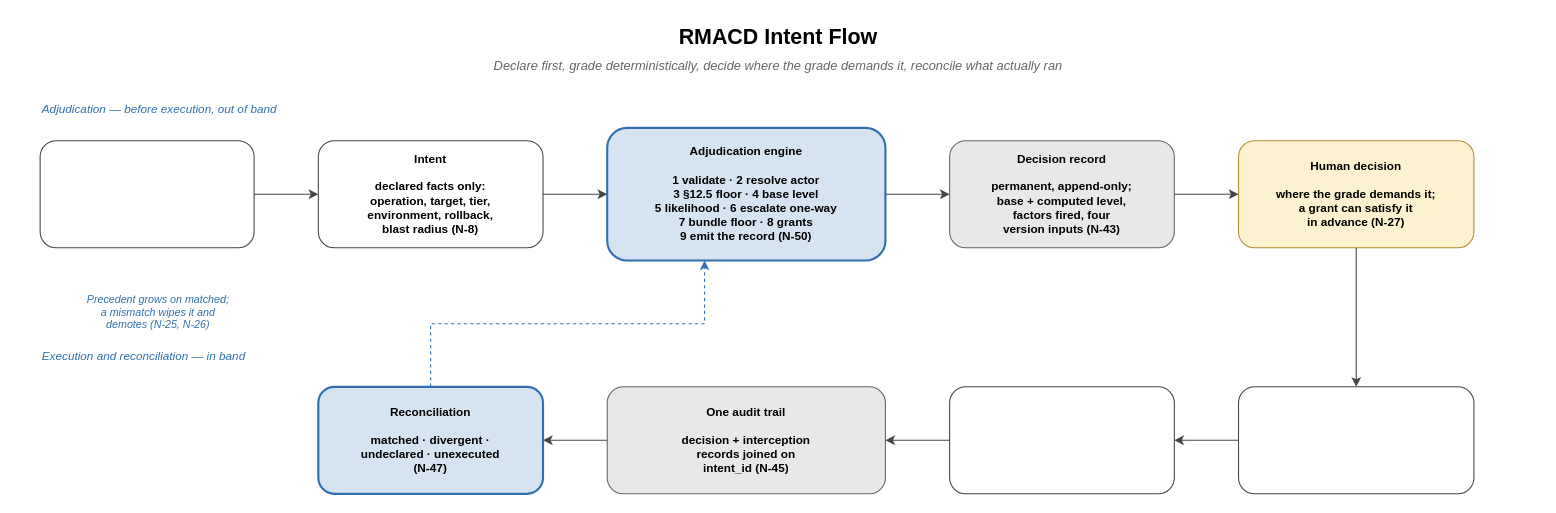
Some shapes in this 1556 by 513 pixel diagram are drawn without their labels. The shapes that lost their labels are listed below. From the top down, each one's centre as x and y in pixels, then its label:
At point 146,194: "Actor agent, pipeline or human; always acts for an accountable human (N-5)".
At point 1061,440: "Interception the profile still gates the call: approval is not permission (N-20)".
At point 1355,440: "Execution before valid_until (N-52); intent_id travels with the action (N-46)".
